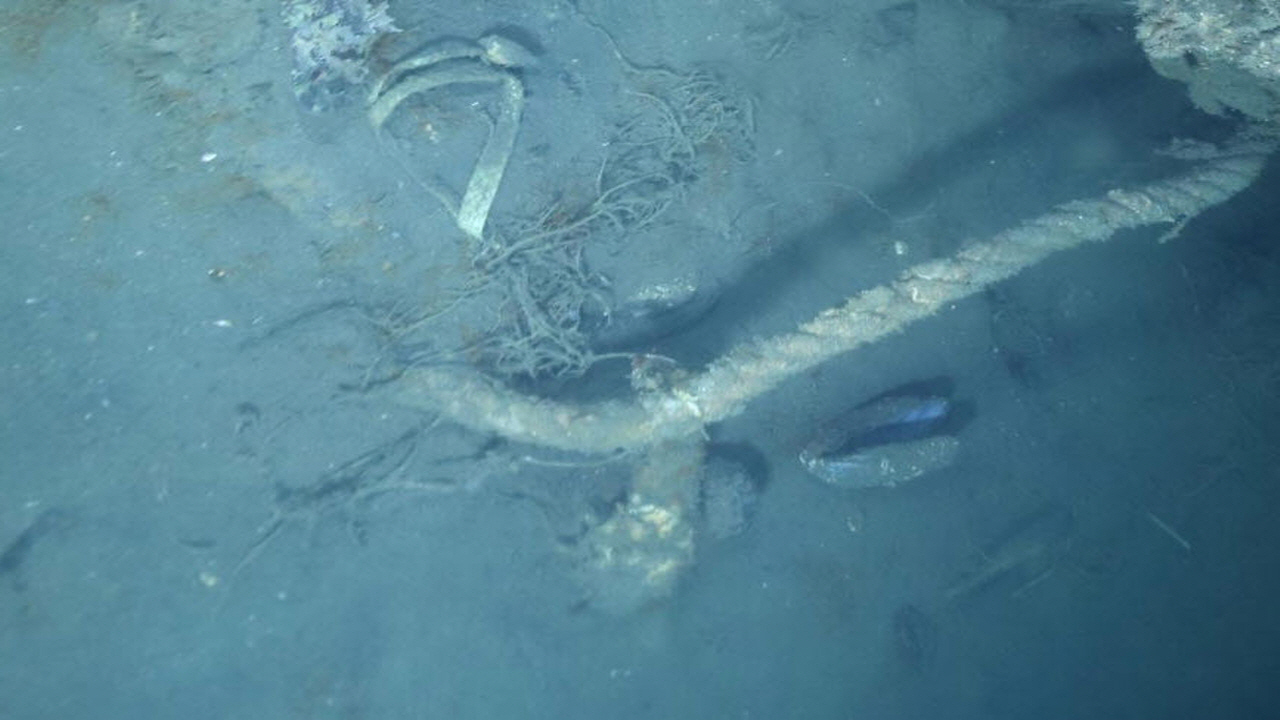rope: (404, 114, 1280, 459)
